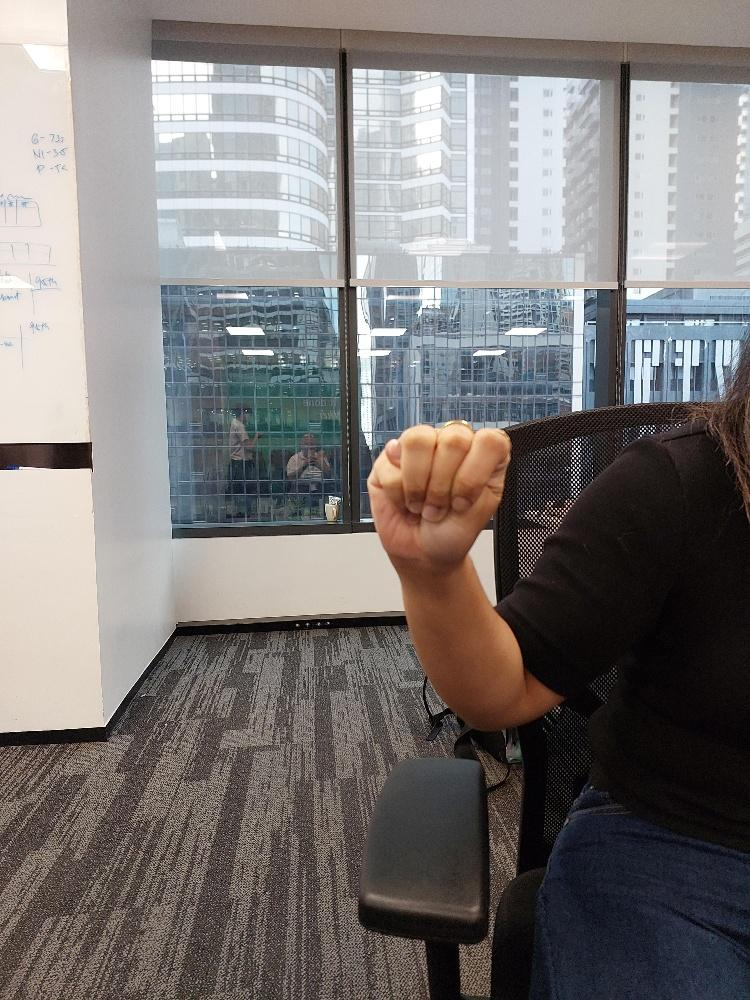m: (364, 416, 514, 579)
